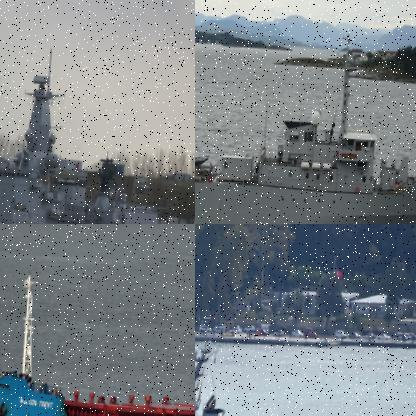Merchant Ship: (0, 224, 194, 415)
Military Ship: (195, 17, 415, 223), (0, 38, 194, 223), (195, 326, 394, 415)
